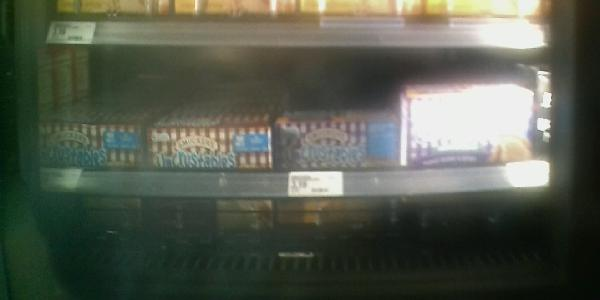icecream: (402, 79, 535, 172), (274, 111, 401, 176), (145, 114, 275, 176), (32, 110, 146, 180)
